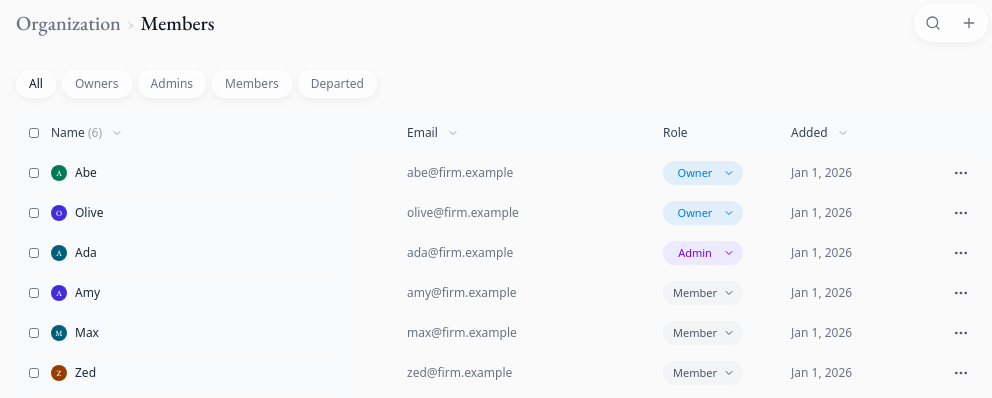
Test case: OrganizationMembers › the role tabs › shows only that role under Admins, and counts it
The width and height of the screenshot is (992, 398).
Expected: the text "Olive" is shown, [75, 205, 103, 221]
Click the button "Admins" at (172, 84), box [138, 70, 206, 98]
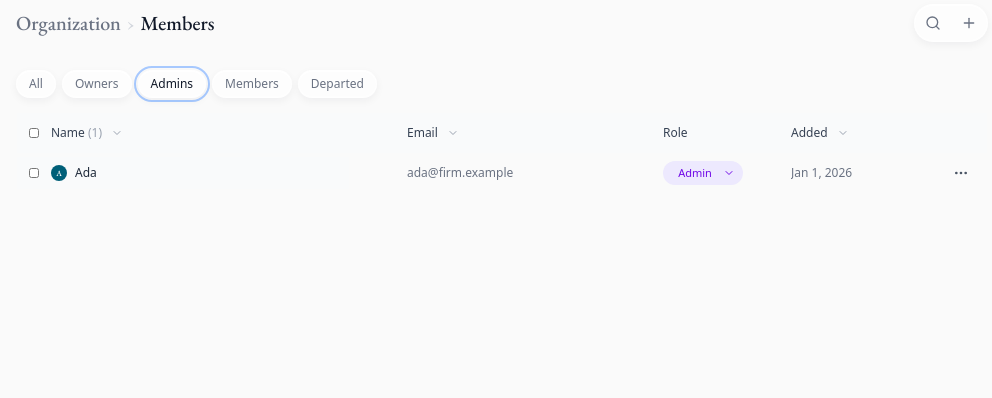
Result: the text "(1)" is shown at [88, 124, 102, 141]
